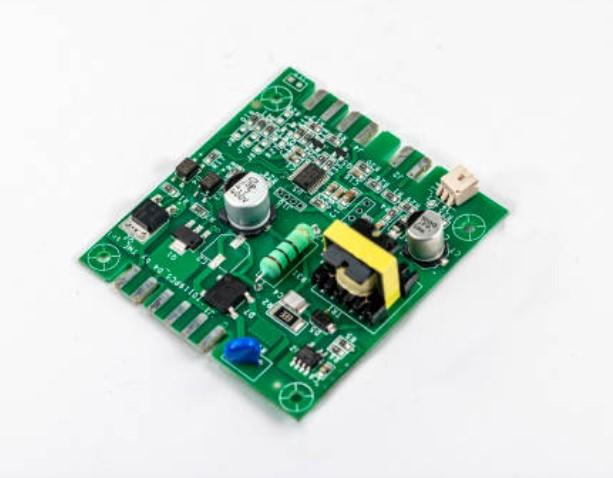Printed Circuit Board PCB: (77, 67, 509, 423)
